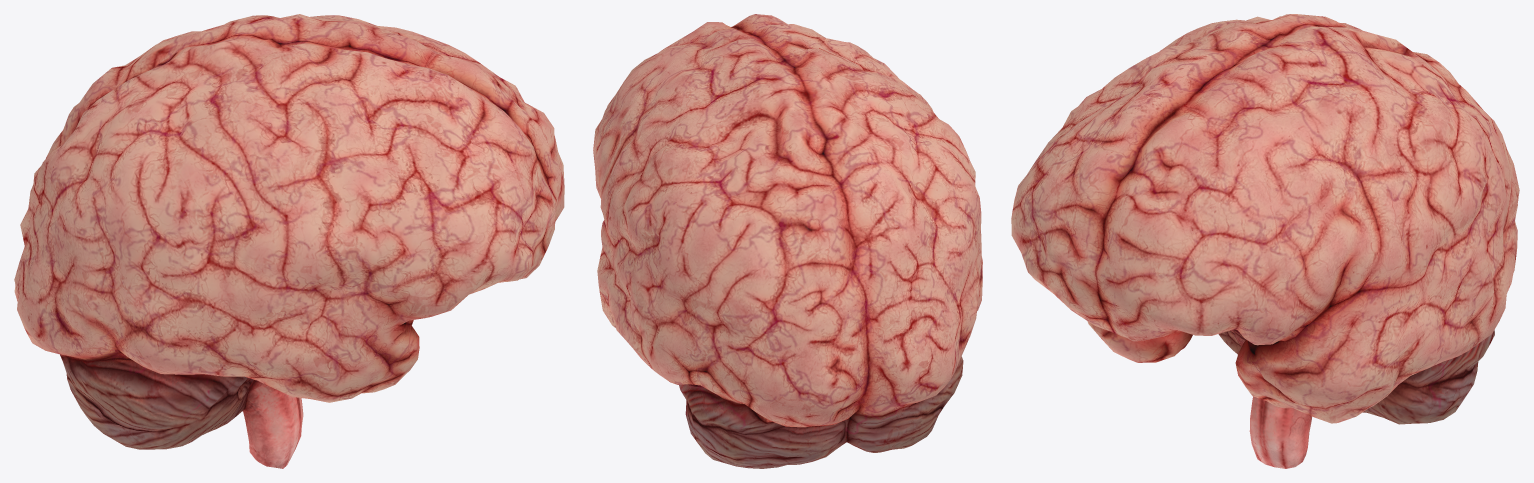
The model's file is cerebro.glb.
3 renders of one model, left to right at view 1: azimuth 30°, elevation 25°; view 2: azimuth 150°, elevation 25°; view 3: azimuth 270°, elevation 25°, orthographic. The views are drawn at different scales.
Visible parts, largest first — view 1: node_id30_1_4; view 2: node_id30_1_4; view 3: node_id30_1_4.
Boxes of the visible parts, <box> form: node_id30_1_4: <box>14,14,564,468</box>; node_id30_1_4: <box>593,14,982,468</box>; node_id30_1_4: <box>1011,14,1519,468</box>.
Size of the model in its own units: 0.5665 by 0.512 by 0.546.
1 material, 1 textured.
